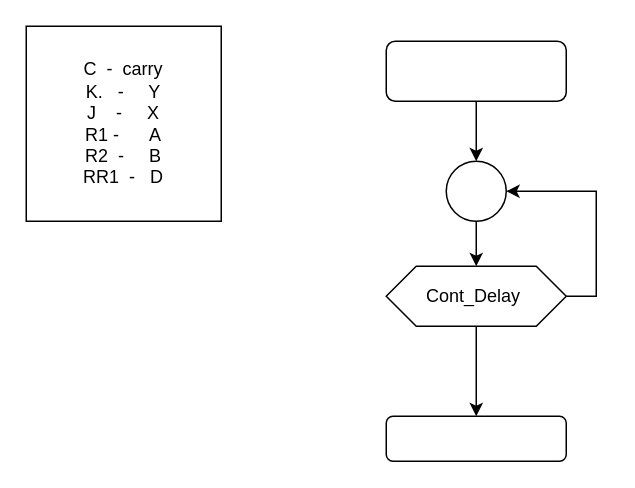
Some shapes in this 635 by 488 pixel diagram are drawn without their labels. The centre of each missing label's shape, as x and y in pixels:
"Delay" belongs at (x=475, y=70).
"RETURN" belongs at (x=475, y=438).
